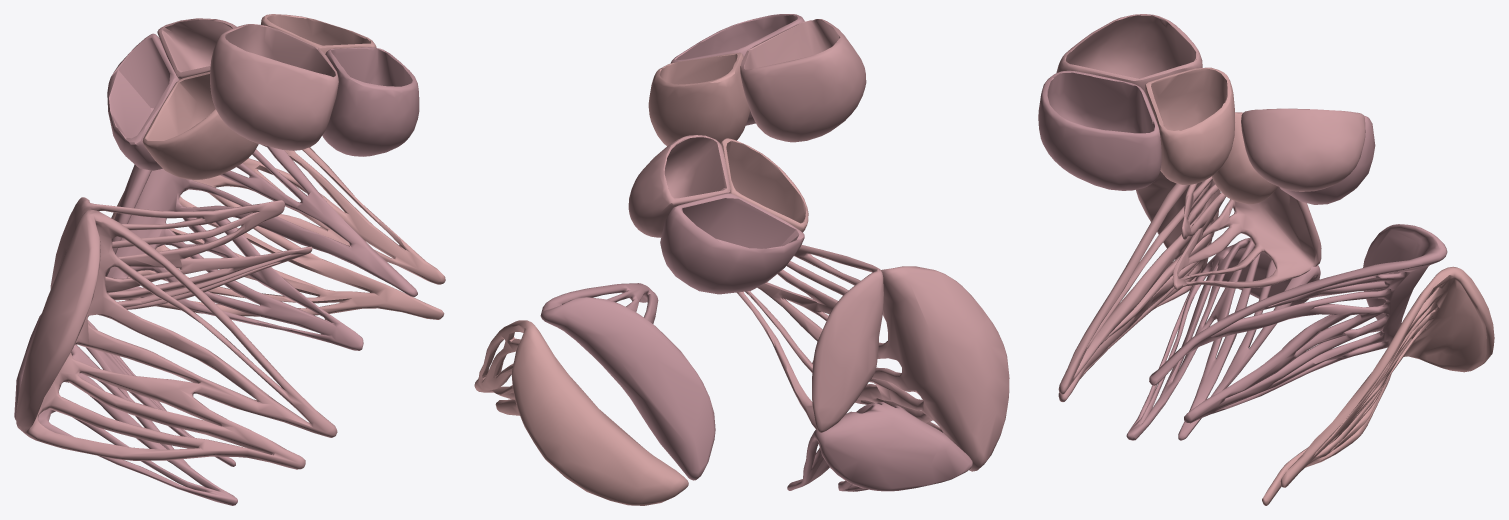
File: heart-valves.glb
The picture shows the model from 3 angles, left to right: view 1: azimuth 30°, elevation 25°; view 2: azimuth 150°, elevation 25°; view 3: azimuth 270°, elevation 25°; orthographic projection. The views are drawn at different scales.
Parts seen in each view (by area): view 1: FJ2421 Anterior leaflet of tricuspid valve, FJ2420 Anterior leaflet of mitral valve, FJ2434 Right anterior cusp of pulmonary valve, FJ2432 Posterior leaflet of mitral valve, FJ2436 Septal leaflet of tricuspid valve, FJ2417 Left anterior cusp of pulmonary valve, FJ2435 Anterior cusp of aortic valve, FJ2431 Right posterior cusp of aortic valve, FJ2433 Posterior leaflet of tricuspid valve, FJ2426 Left posterior cusp of aortic valve, FJ2427 Posterior cusp of pulmonary valve; view 2: FJ2421 Anterior leaflet of tricuspid valve, FJ2432 Posterior leaflet of mitral valve, FJ2420 Anterior leaflet of mitral valve, FJ2436 Septal leaflet of tricuspid valve, FJ2434 Right anterior cusp of pulmonary valve, FJ2431 Right posterior cusp of aortic valve, FJ2433 Posterior leaflet of tricuspid valve, FJ2427 Posterior cusp of pulmonary valve, FJ2426 Left posterior cusp of aortic valve, FJ2435 Anterior cusp of aortic valve, FJ2417 Left anterior cusp of pulmonary valve; view 3: FJ2420 Anterior leaflet of mitral valve, FJ2417 Left anterior cusp of pulmonary valve, FJ2432 Posterior leaflet of mitral valve, FJ2421 Anterior leaflet of tricuspid valve, FJ2436 Septal leaflet of tricuspid valve, FJ2433 Posterior leaflet of tricuspid valve, FJ2426 Left posterior cusp of aortic valve, FJ2427 Posterior cusp of pulmonary valve, FJ2434 Right anterior cusp of pulmonary valve, FJ2435 Anterior cusp of aortic valve, FJ2431 Right posterior cusp of aortic valve.
Part boxes in pixels (x1=…): FJ2421 Anterior leaflet of tricuspid valve: x1=16, y1=210, x2=337, y2=469; FJ2420 Anterior leaflet of mitral valve: x1=105, y1=146, x2=417, y2=350; FJ2434 Right anterior cusp of pulmonary valve: x1=210, y1=24, x2=338, y2=150; FJ2432 Posterior leaflet of mitral valve: x1=111, y1=144, x2=445, y2=319; FJ2436 Septal leaflet of tricuspid valve: x1=50, y1=197, x2=312, y2=309; FJ2417 Left anterior cusp of pulmonary valve: x1=322, y1=47, x2=419, y2=156; FJ2435 Anterior cusp of aortic valve: x1=142, y1=72, x2=258, y2=179; FJ2431 Right posterior cusp of aortic valve: x1=107, y1=33, x2=178, y2=170; FJ2433 Posterior leaflet of tricuspid valve: x1=14, y1=313, x2=237, y2=505; FJ2426 Left posterior cusp of aortic valve: x1=157, y1=18, x2=236, y2=79; FJ2427 Posterior cusp of pulmonary valve: x1=260, y1=14, x2=376, y2=53; FJ2421 Anterior leaflet of tricuspid valve: x1=812, y1=266, x2=1009, y2=471; FJ2432 Posterior leaflet of mitral valve: x1=474, y1=320, x2=688, y2=505; FJ2420 Anterior leaflet of mitral valve: x1=540, y1=283, x2=715, y2=480; FJ2436 Septal leaflet of tricuspid valve: x1=737, y1=245, x2=883, y2=432; FJ2434 Right anterior cusp of pulmonary valve: x1=740, y1=19, x2=866, y2=142; FJ2431 Right posterior cusp of aortic valve: x1=660, y1=193, x2=804, y2=294; FJ2433 Posterior leaflet of tricuspid valve: x1=787, y1=402, x2=972, y2=491; FJ2427 Posterior cusp of pulmonary valve: x1=648, y1=52, x2=750, y2=145; FJ2426 Left posterior cusp of aortic valve: x1=628, y1=135, x2=730, y2=237; FJ2435 Anterior cusp of aortic valve: x1=720, y1=138, x2=808, y2=232; FJ2417 Left anterior cusp of pulmonary valve: x1=671, y1=14, x2=804, y2=125; FJ2420 Anterior leaflet of mitral valve: x1=1149, y1=224, x2=1447, y2=423; FJ2417 Left anterior cusp of pulmonary valve: x1=1038, y1=70, x2=1161, y2=190; FJ2432 Posterior leaflet of mitral valve: x1=1262, y1=266, x2=1494, y2=505; FJ2421 Anterior leaflet of tricuspid valve: x1=1058, y1=171, x2=1220, y2=401; FJ2436 Septal leaflet of tricuspid valve: x1=1172, y1=176, x2=1321, y2=290; FJ2433 Posterior leaflet of tricuspid valve: x1=1126, y1=237, x2=1320, y2=440; FJ2426 Left posterior cusp of aortic valve: x1=1241, y1=108, x2=1365, y2=191; FJ2427 Posterior cusp of pulmonary valve: x1=1145, y1=67, x2=1234, y2=184; FJ2434 Right anterior cusp of pulmonary valve: x1=1056, y1=14, x2=1202, y2=92; FJ2435 Anterior cusp of aortic valve: x1=1211, y1=112, x2=1278, y2=204; FJ2431 Right posterior cusp of aortic valve: x1=1279, y1=116, x2=1375, y2=204.
Bounding box in the file's own units: 0.0839 × 0.0766 × 0.0741.
